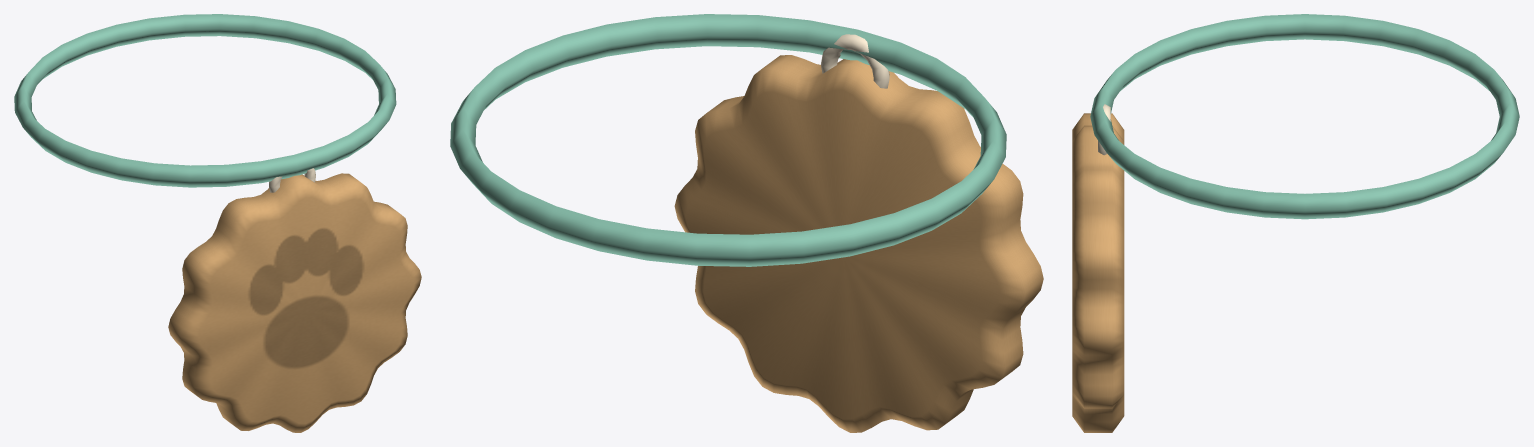
Rendered from KD_CandyStep_PawMedallion.fbx.
The picture shows the model from 3 angles, left to right: view 1: azimuth 30°, elevation 25°; view 2: azimuth 150°, elevation 25°; view 3: azimuth 270°, elevation 25°; orthographic projection. The views are drawn at different scales.
Parts seen in each view (by area): view 1: KD_CandyStep_PawMedallion; view 2: KD_CandyStep_PawMedallion; view 3: KD_CandyStep_PawMedallion.
Boxes of the visible parts, bbox=[...] form: KD_CandyStep_PawMedallion: bbox=[14, 14, 421, 432]; KD_CandyStep_PawMedallion: bbox=[450, 14, 1043, 432]; KD_CandyStep_PawMedallion: bbox=[1072, 14, 1519, 432].
Size of the model in its own units: 0.111 by 0.0865 by 0.1115.
1 material, 1 textured.
